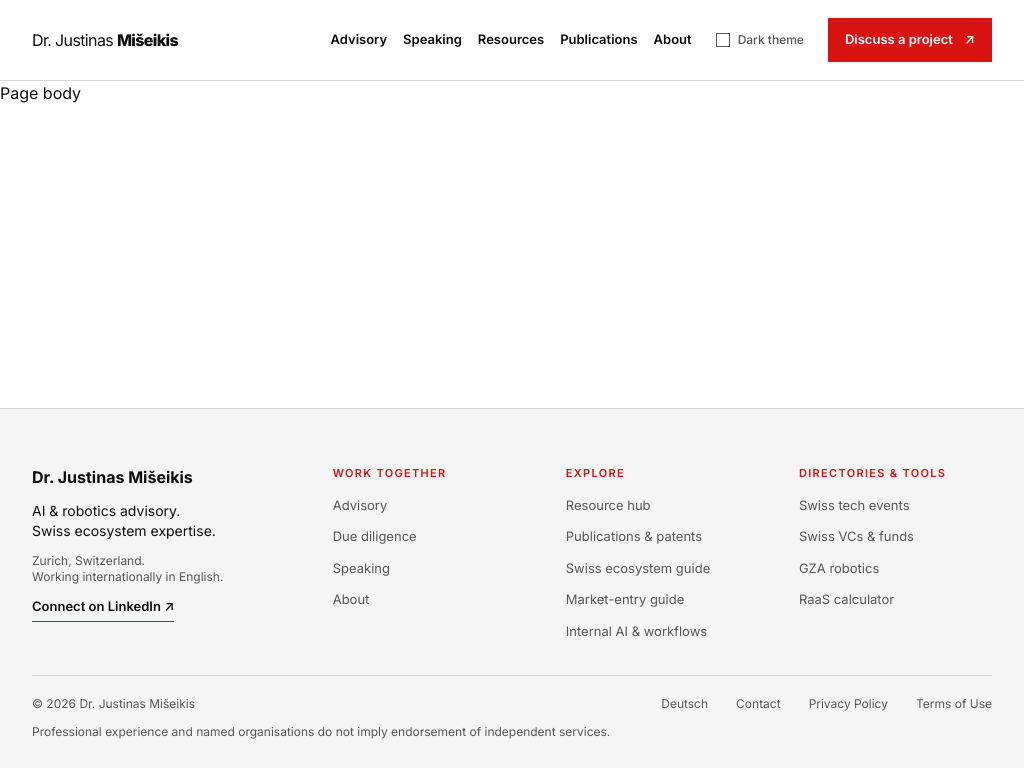
Test case: Theme › starts light and switches to dark with the header toggle
The image size is (1024, 768).
Click the button "Dark theme": {"x": 760, "y": 40} x1=708 y1=18 x2=812 y2=62
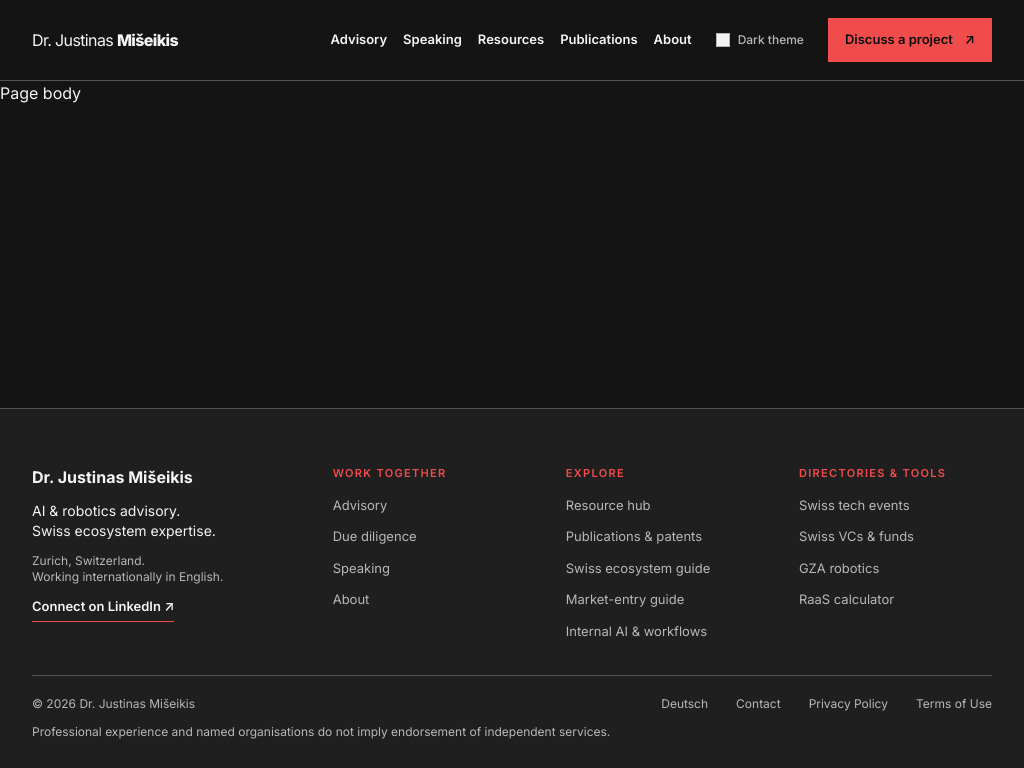
Result: the button "Dark theme" is pressed at x1=708 y1=18 x2=812 y2=62
